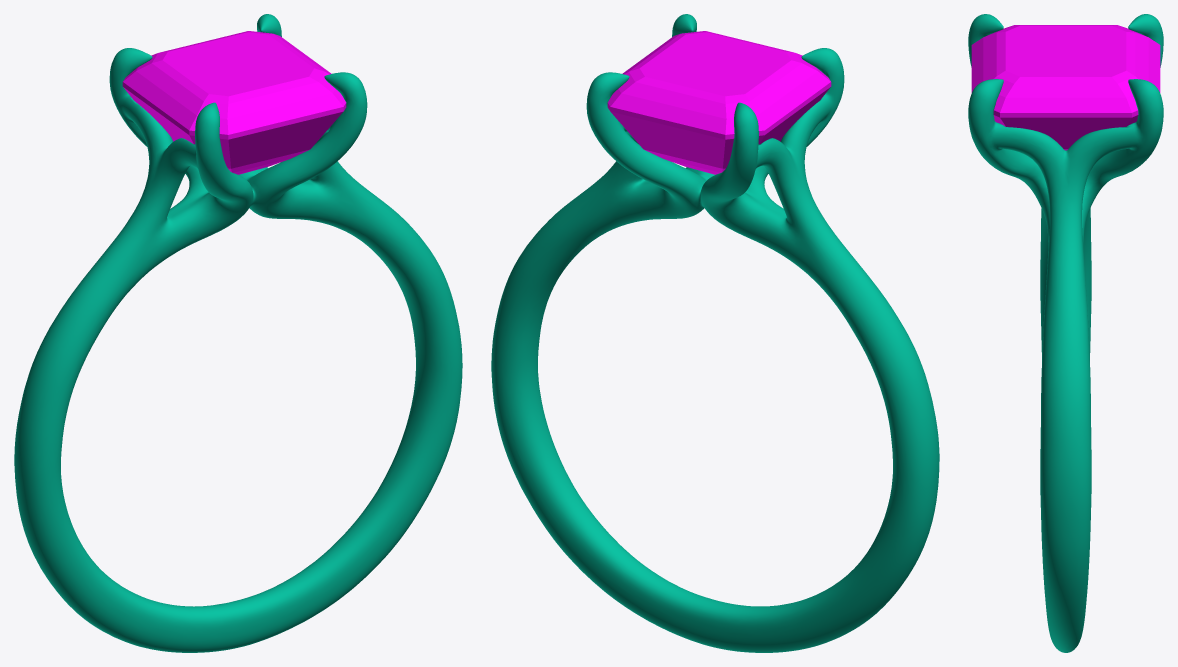
Rendered from BE1829_AS_200ct_RENDER.glb.
The picture shows the model from 3 angles, left to right: view 1: azimuth 30°, elevation 25°; view 2: azimuth 150°, elevation 25°; view 3: azimuth 270°, elevation 25°; orthographic projection.
Parts seen in each view (by area): view 1: Metal 01, CS_Diamond_Asscher; view 2: Metal 01, CS_Diamond_Asscher; view 3: Metal 01, CS_Diamond_Asscher.
Part boxes in pixels (box(x1,y1,x2,y2)): Metal 01: box(14, 14, 462, 652); CS_Diamond_Asscher: box(122, 31, 346, 174); Metal 01: box(491, 14, 939, 652); CS_Diamond_Asscher: box(607, 31, 831, 174); Metal 01: box(968, 14, 1163, 652); CS_Diamond_Asscher: box(971, 25, 1160, 150).
Bounding box in the file's own units: 19.98 × 25.45 × 7.76.
